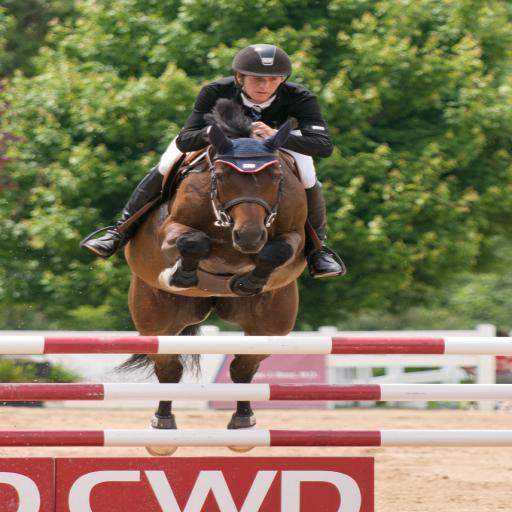Horse: (107, 97, 313, 459)
